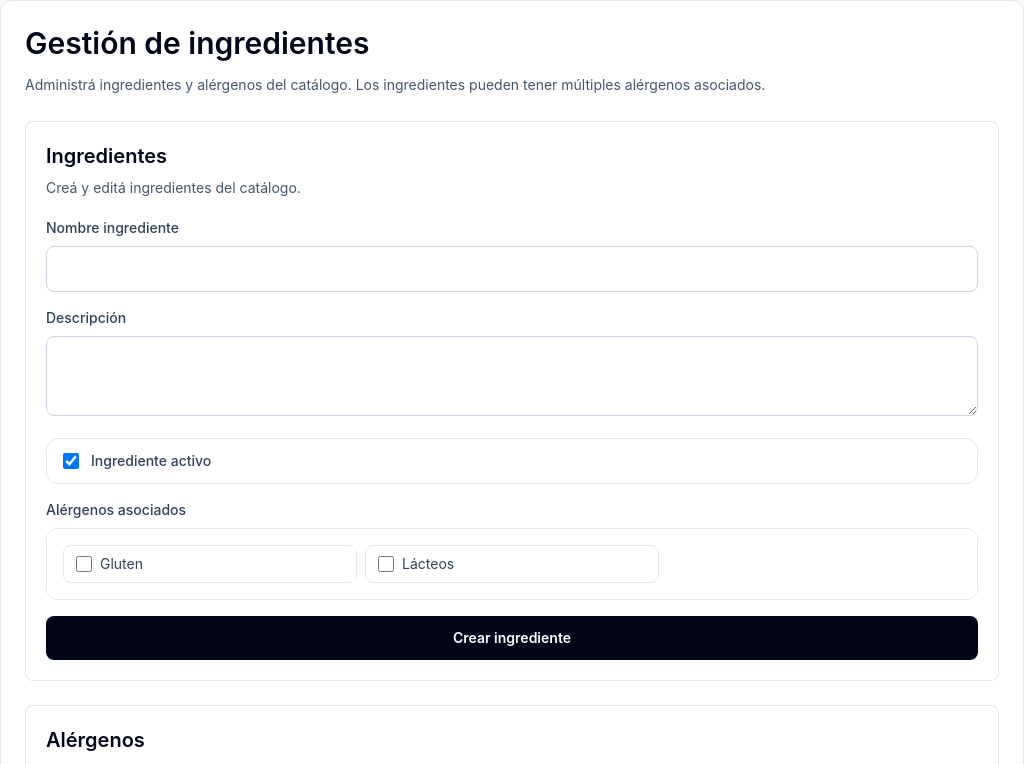
Test: IngredientManagementPage › preserves form state when backend validation fails
In the field labelled "Nombre ingrediente": point(512, 269) [46, 246, 978, 292], type "Pan"
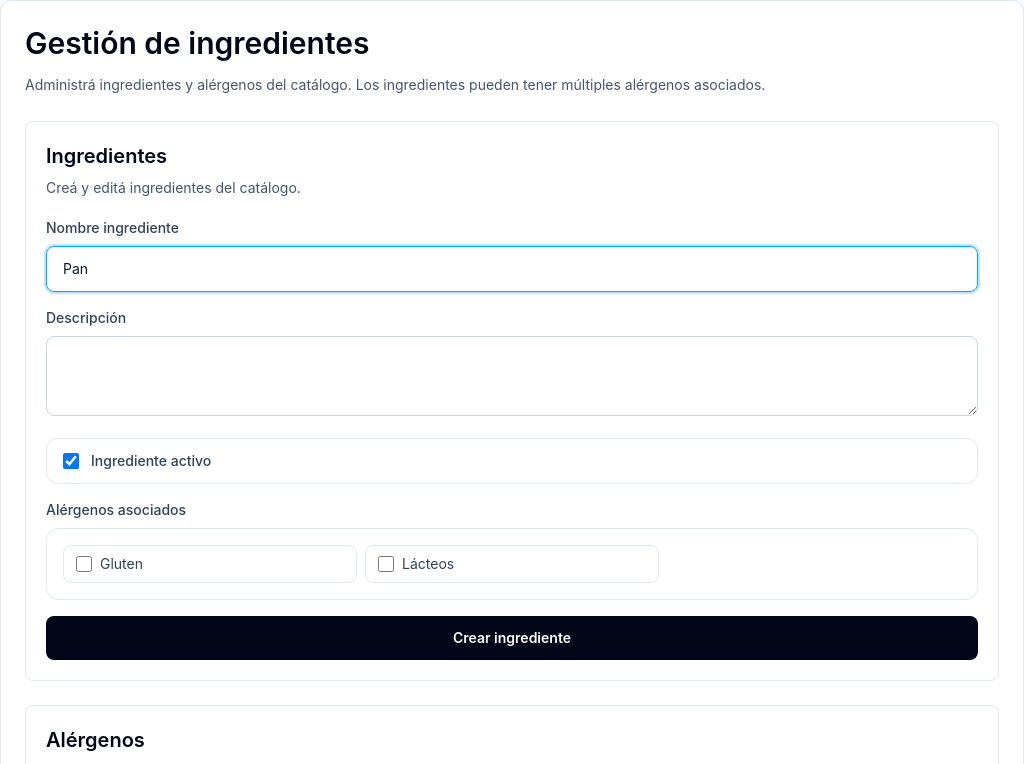
Click the button "Crear ingrediente": point(512, 638) [46, 616, 978, 660]
(page scrolled)
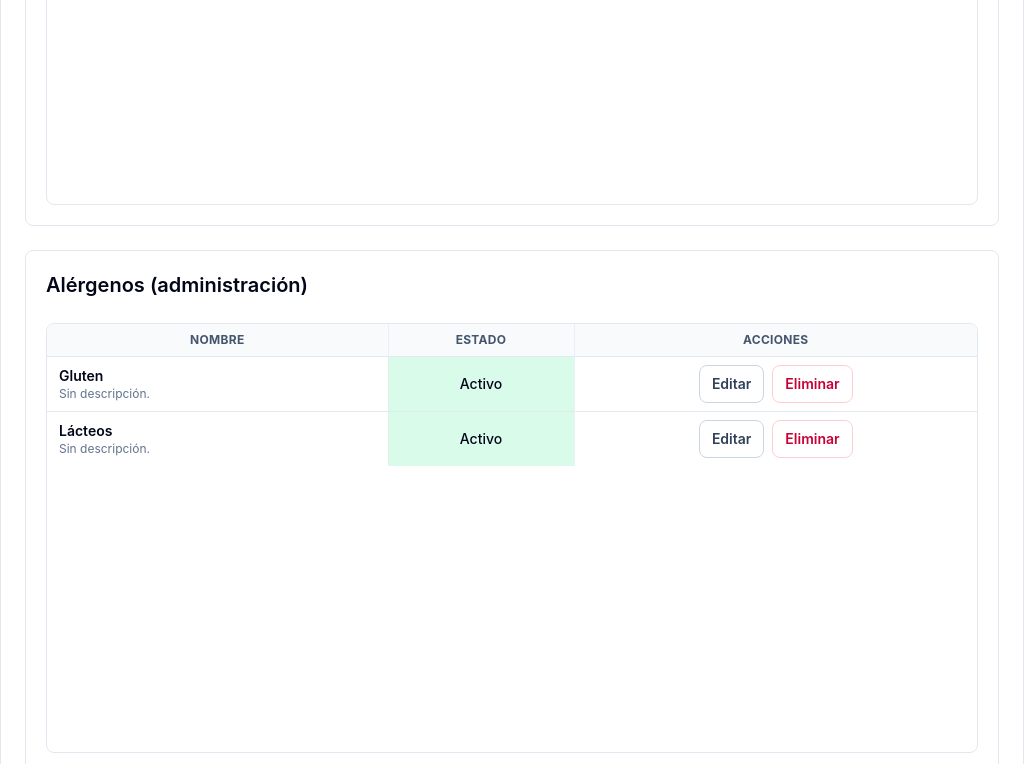
Click the button with aria-label "Eliminar alérgeno": point(813, 384) [772, 365, 853, 403]
(page scrolled)
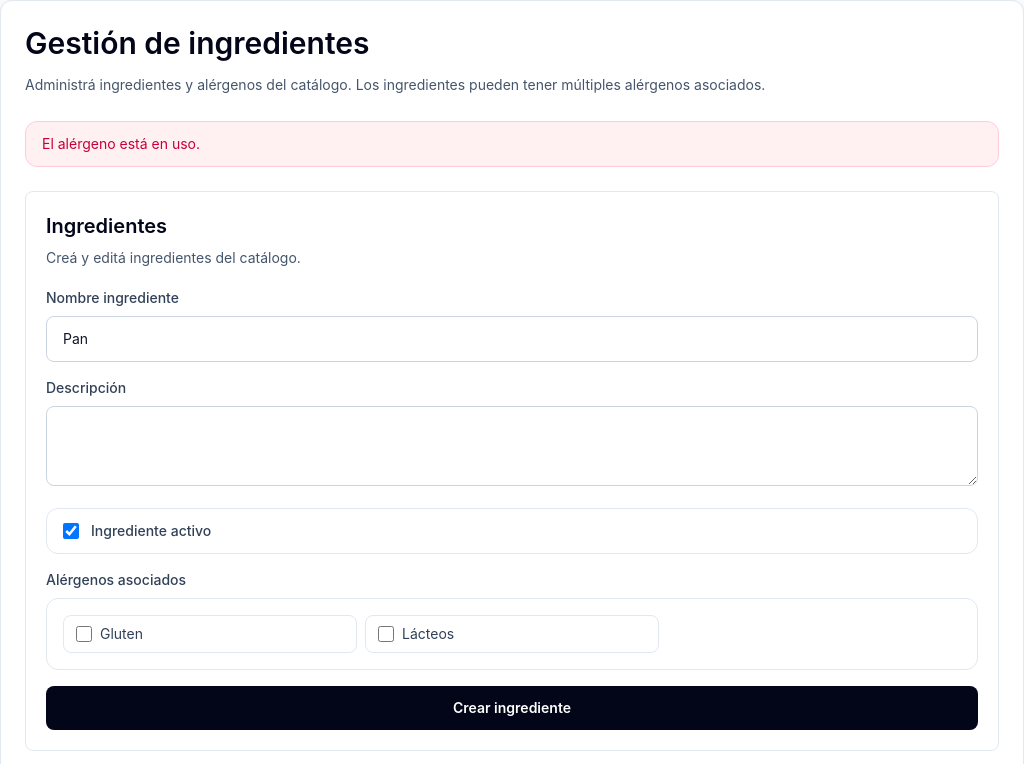
Result: the message reads "El alérgeno está en uso." at [42, 135, 200, 152]
